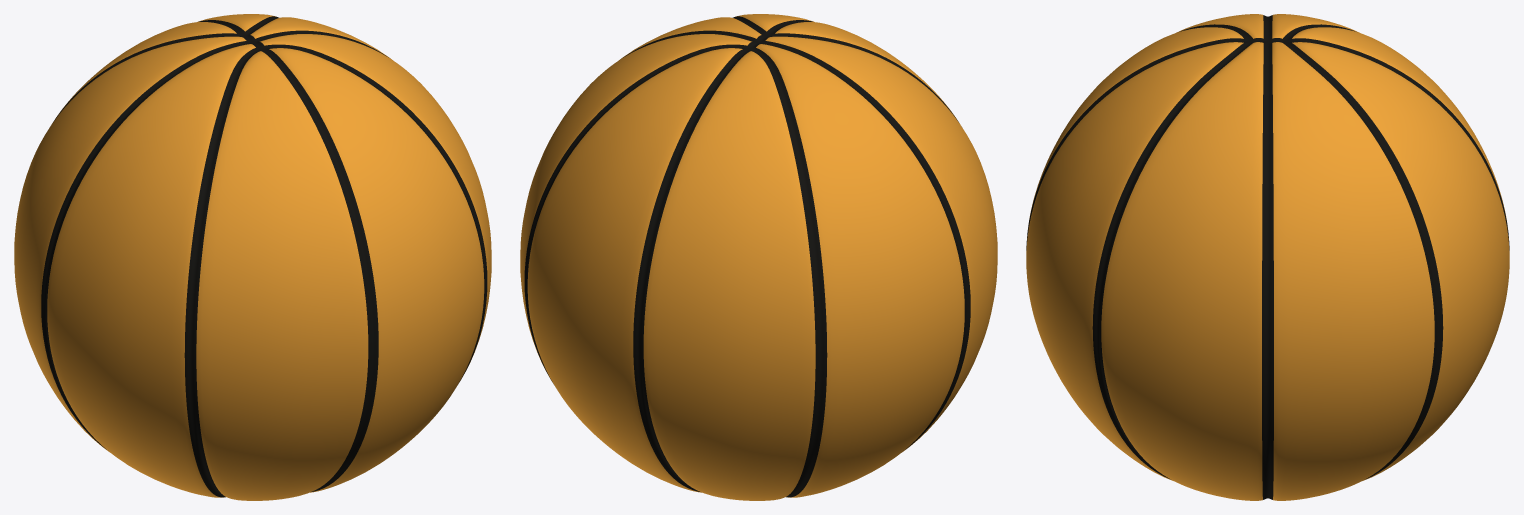
Rendered from Basket Ball.fbx.
3 renders of one model, left to right at view 1: azimuth 30°, elevation 25°; view 2: azimuth 150°, elevation 25°; view 3: azimuth 270°, elevation 25°, orthographic.
Visible parts, largest first — view 1: Sphere; view 2: Sphere; view 3: Sphere.
Boxes of the visible parts, bbox=[...] form: Sphere: bbox=[14, 14, 491, 500]; Sphere: bbox=[520, 14, 997, 500]; Sphere: bbox=[1026, 14, 1509, 500].
Size of the model in its own units: 0.2422 by 0.2422 by 0.2422.
